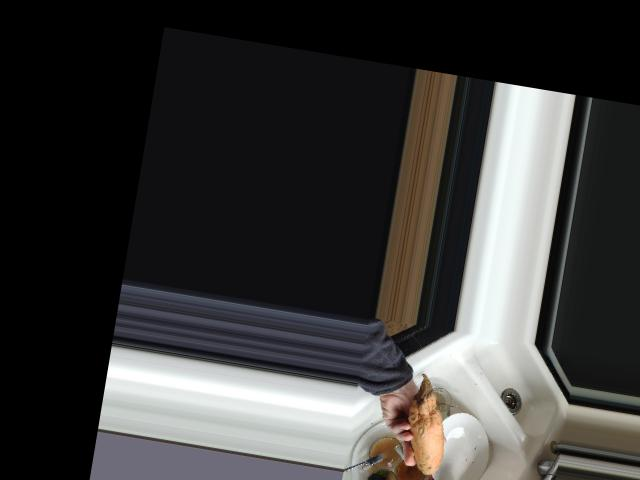sweet_potato: (399, 371, 458, 476)
